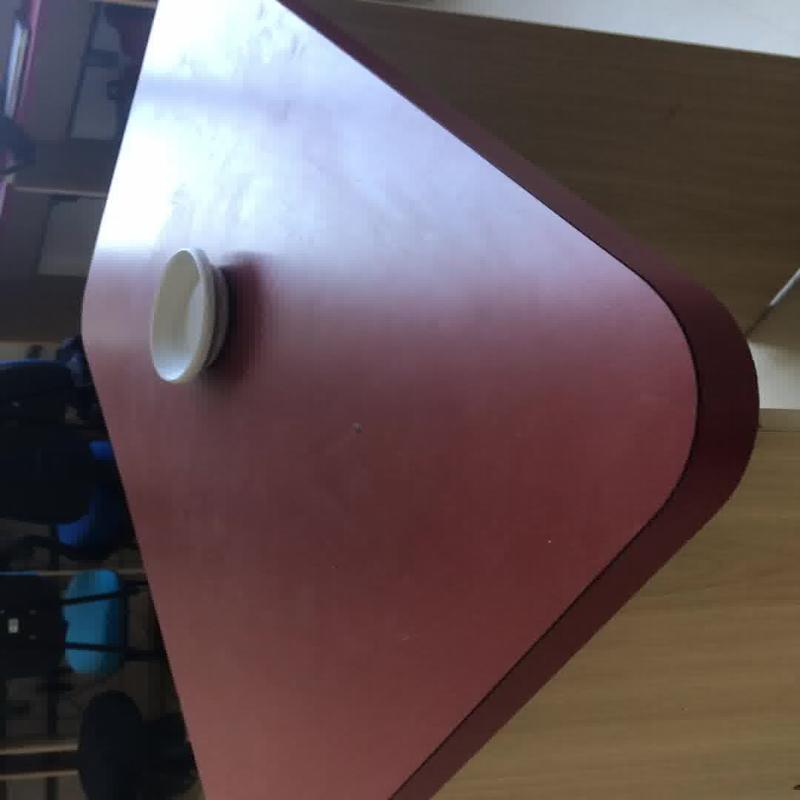plate: (147, 246, 228, 383)
